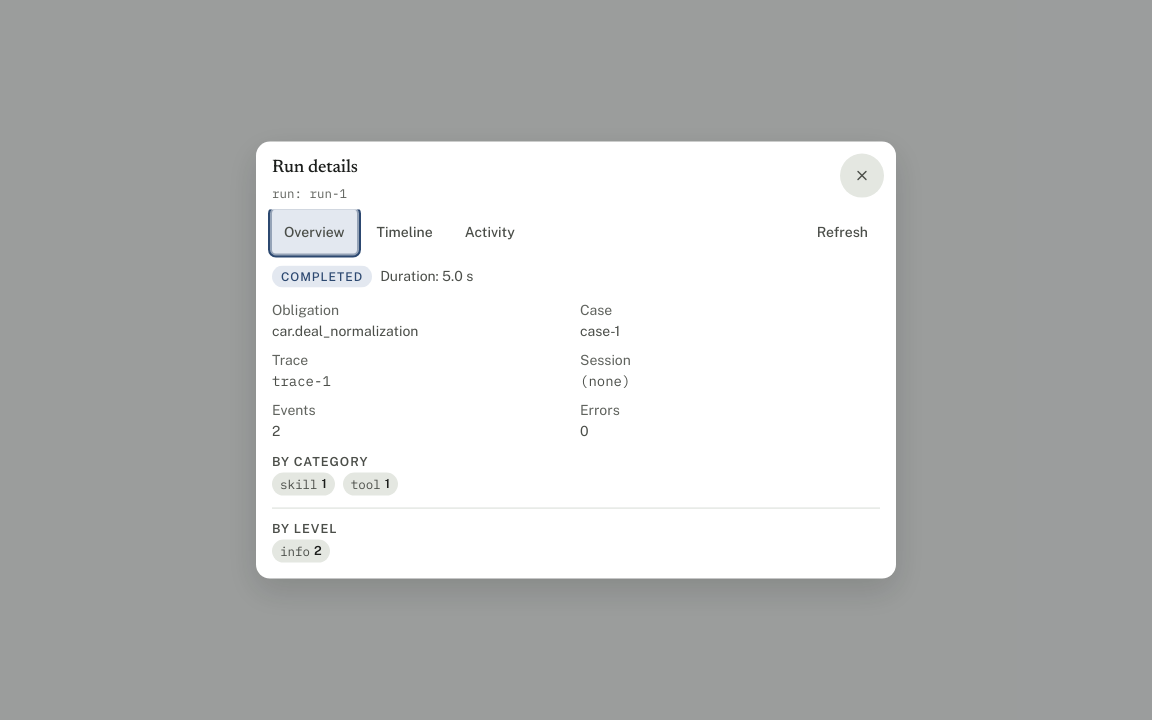
Test: RuntimeInspector › renders the agent id on a Timeline item when the real event carries one
The width and height of the screenshot is (1152, 720).
Expected: the element with test id "runtime-inspector-overview" is shown, 272,266 -> 631,562
Step 1. Click the tab with test id "runtime-inspector-tab-timeline" → (405,232), box 364,210 -> 445,254
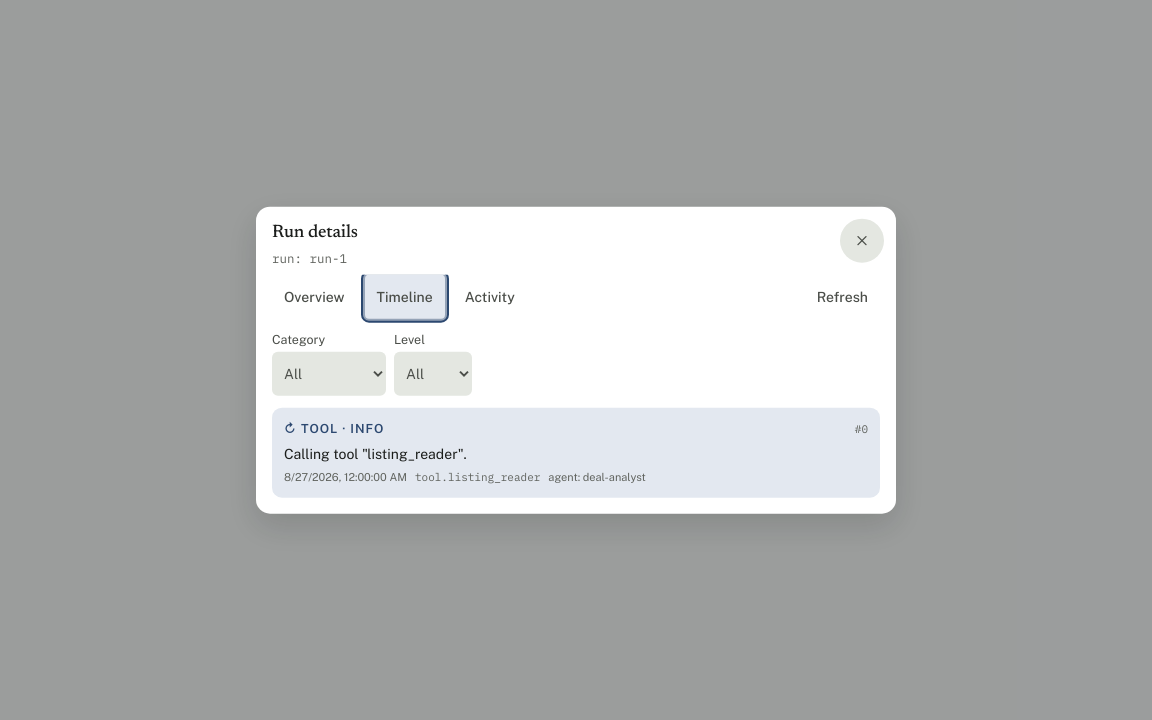
Now the list item with test id "runtime-inspector-timeline-item-debug-1" shows "agent: deal-analyst", box 272,408 -> 880,497
